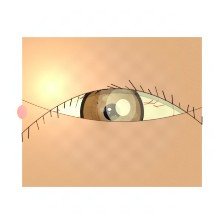corneal_ulcer: (91, 83, 151, 130)
